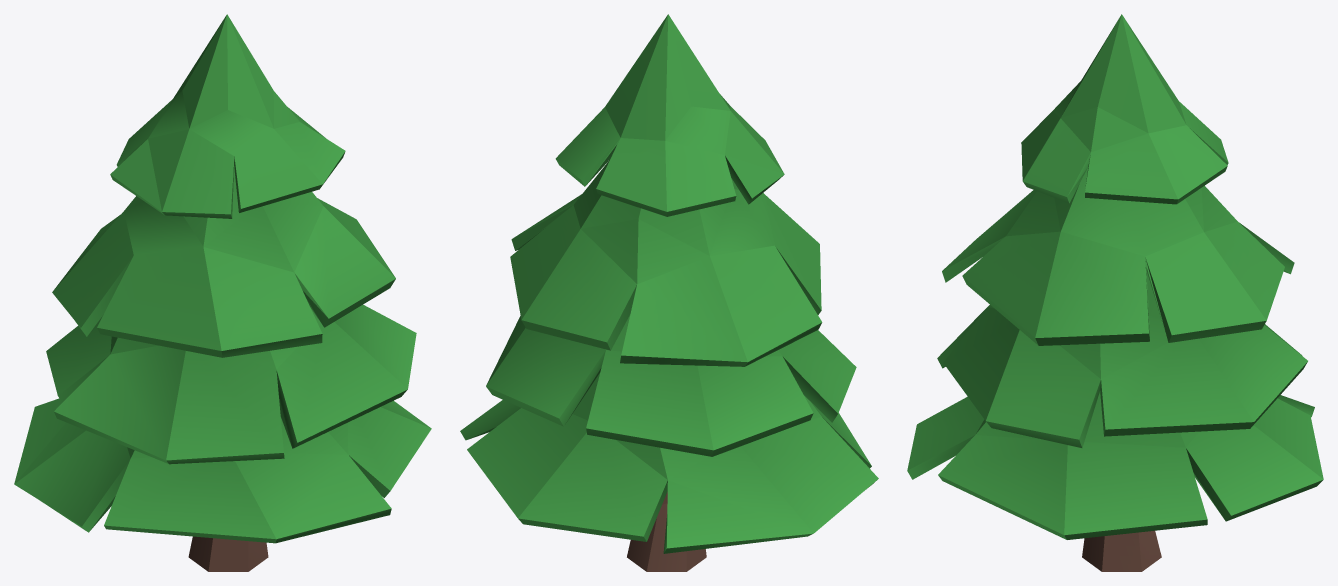
File: fir_tree_003.glb
3 renders of one model, left to right at view 1: azimuth 30°, elevation 25°; view 2: azimuth 150°, elevation 25°; view 3: azimuth 270°, elevation 25°, orthographic.
Parts seen in each view (by area): view 1: fir_tree_003; view 2: fir_tree_003; view 3: fir_tree_003.
Part boxes in pixels (left/top/right/bottom): fir_tree_003: left=14, top=14, right=431, bottom=571; fir_tree_003: left=460, top=14, right=878, bottom=571; fir_tree_003: left=907, top=14, right=1323, bottom=571.
Size of the model in its own units: 2.16 by 3.16 by 2.2.
1 material, 1 textured.
